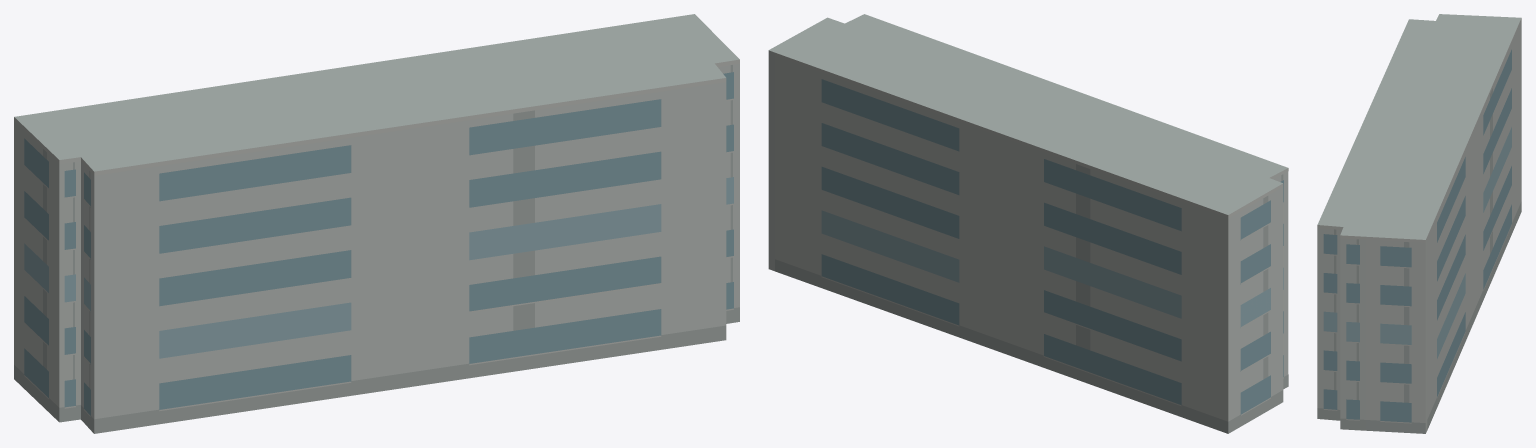
Rendered from survey-upis-32459284.glb.
3 renders of one model, left to right at view 1: azimuth 30°, elevation 25°; view 2: azimuth 150°, elevation 25°; view 3: azimuth 270°, elevation 25°, orthographic. The views are drawn at different scales.
Visible parts, largest first — view 1: survey-upis-32459284.tmp; view 2: survey-upis-32459284.tmp; view 3: survey-upis-32459284.tmp.
Boxes of the visible parts, x1=… form: survey-upis-32459284.tmp: x1=14, y1=14, x2=739, y2=433; survey-upis-32459284.tmp: x1=768, y1=14, x2=1288, y2=433; survey-upis-32459284.tmp: x1=1317, y1=14, x2=1521, y2=433.
Bounding box in the file's own units: 38.11 × 15.25 × 14.56.
